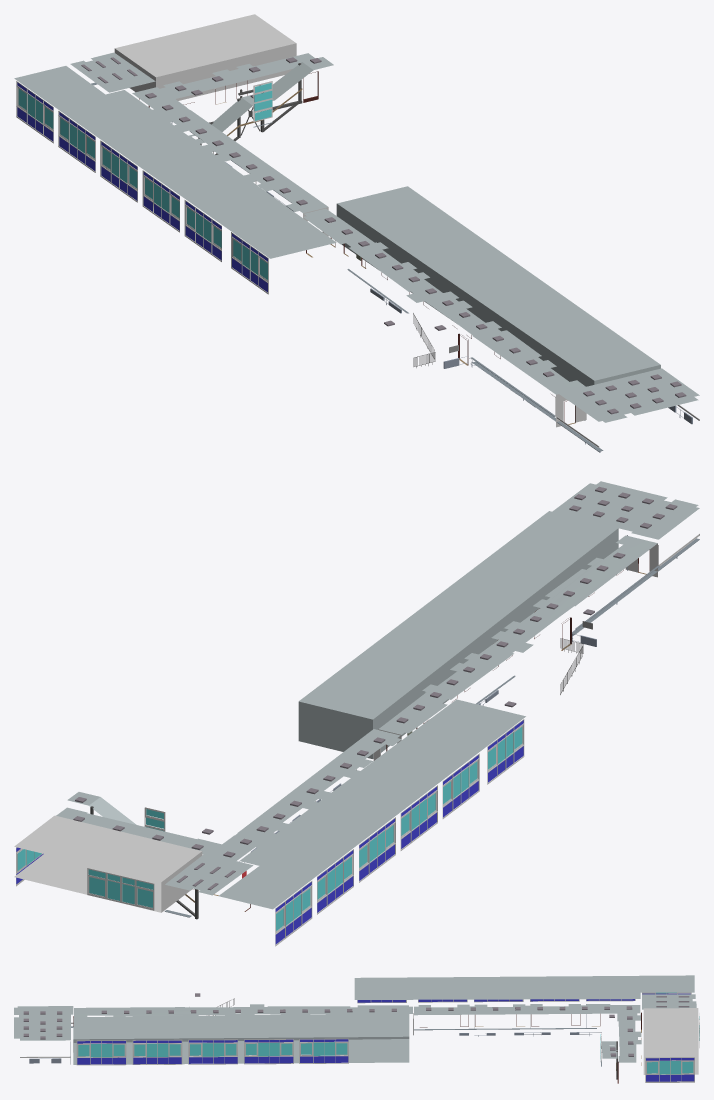
3 renders of one model, top to bottom at view 1: azimuth 30°, elevation 25°; view 2: azimuth 150°, elevation 25°; view 3: azimuth 270°, elevation 25°, orthographic. The views are drawn at different scales.
Parts seen in each view (by area): view 1: stena024.503, stena024.502, stena024.504, stena024.435, stena024.274, stena024.249, stena024.345, stena024.476, stena024.065, stena024.073, stena024.097, stena024.063 (+5 smaller); view 2: stena024.503, stena024.502, stena024.504, stena024.435, stena024.274, stena024.249, stena024.224, stena024.345, stena024.095, stena024.063, stena024.097, stena024.065 (+5 smaller); view 3: stena024.503, stena024.502, stena024.274, stena024.504, stena024.435, stena024.249, stena024.196, stena024.209, stena024.181, stena024.183, stena024.167, stena024.159 (+7 smaller).
Boxes of the visible parts, x1,y1,x2,y2 form: stena024.503: (336,186,660,386); stena024.502: (14,66,336,258); stena024.504: (114,14,296,100); stena024.435: (303,208,585,394); stena024.274: (132,53,327,213); stena024.249: (557,368,699,422); stena024.345: (70,52,155,92); stena024.476: (188,57,333,143); stena024.065: (142,170,179,232); stena024.073: (100,140,137,202); stena024.097: (231,232,268,294); stena024.063: (184,200,221,261); stena024.503: (298,511,618,758); stena024.502: (218,699,525,909); stena024.504: (14,815,202,912); stena024.435: (379,535,657,734); stena024.274: (56,729,401,860); stena024.249: (552,481,699,539); stena024.224: (87,868,154,910); stena024.345: (165,853,253,895); stena024.095: (275,881,312,946); stena024.063: (442,753,479,818); stena024.097: (487,719,524,784); stena024.065: (400,785,437,850); stena024.503: (73,1013,409,1064); stena024.502: (354,975,694,999); stena024.274: (414,1004,641,1062); stena024.504: (643,1008,698,1074); stena024.435: (74,1004,412,1017); stena024.249: (14,1006,73,1040); stena024.196: (76,1040,126,1065); stena024.209: (645,1057,694,1082); stena024.181: (188,1039,237,1064); stena024.183: (132,1039,182,1064); stena024.167: (244,1039,293,1064); stena024.159: (299,1038,348,1063).
Size of the model in its own units: 2142 by 685 by 7379.
